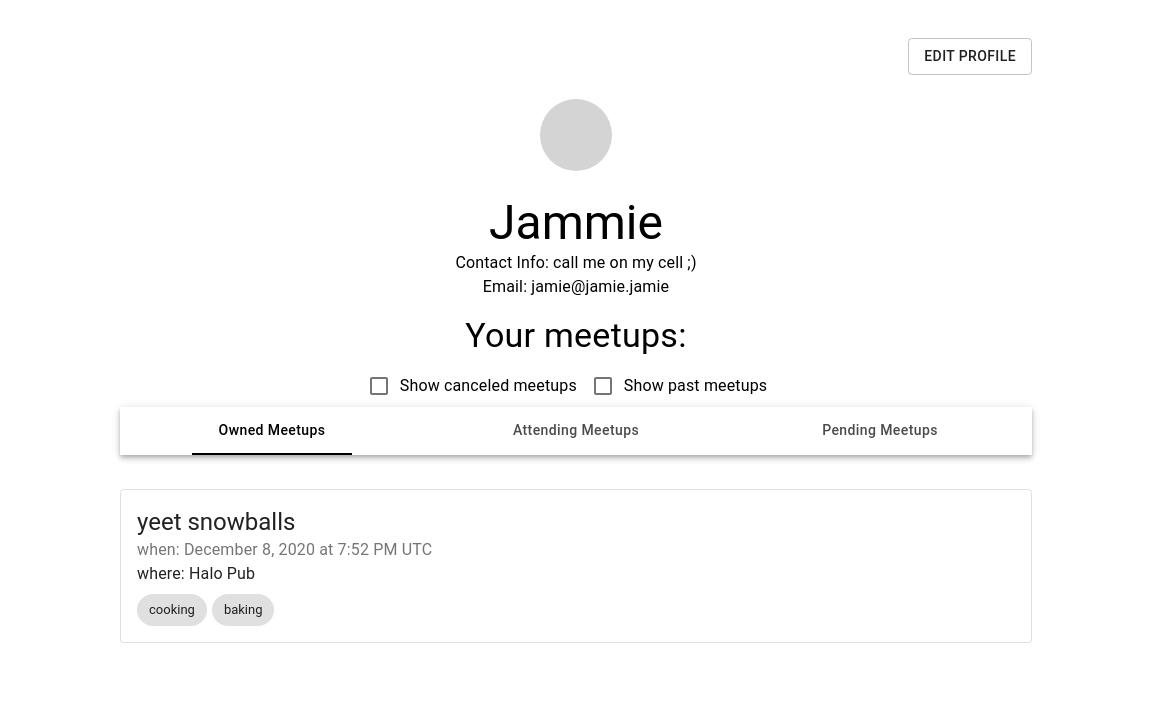
Test: renders own profile
The width and height of the screenshot is (1152, 720).
Expected: the heading "Jammie" is shown, left=489, top=194, right=663, bottom=250
Expected: the text "Email: jamie@jamie.jamie" is shown, left=483, top=274, right=669, bottom=298
Click the tab "Attending Meetups". click: {"x": 576, "y": 430}
box: left=496, top=406, right=656, bottom=454
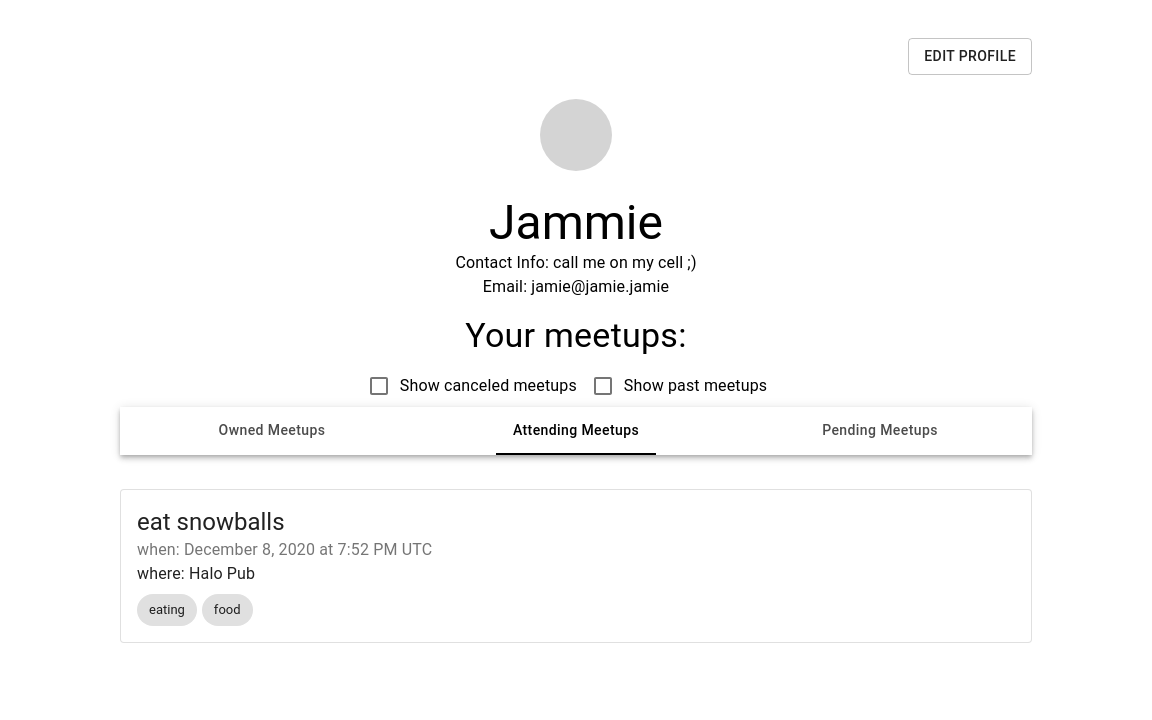
Now the heading "eat snowballs" is shown, box left=137, top=506, right=284, bottom=538
Now the text "food" is shown, box left=214, top=602, right=241, bottom=617
